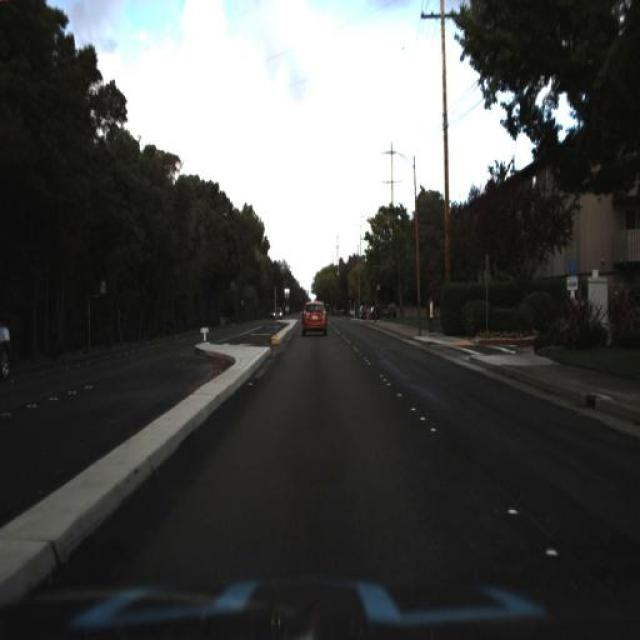car: (298, 296, 328, 339)
trafficLight: (423, 286, 439, 336)
